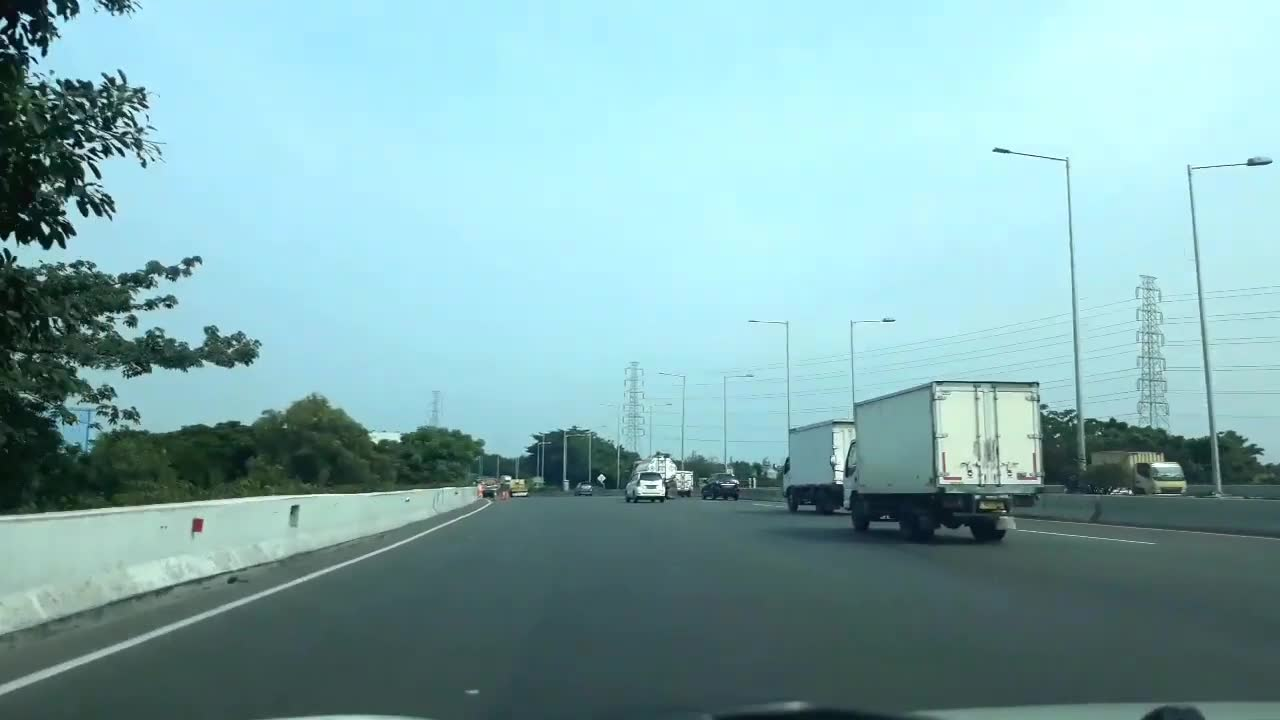plate_positive: (978, 500, 1006, 510), (646, 485, 657, 489)
